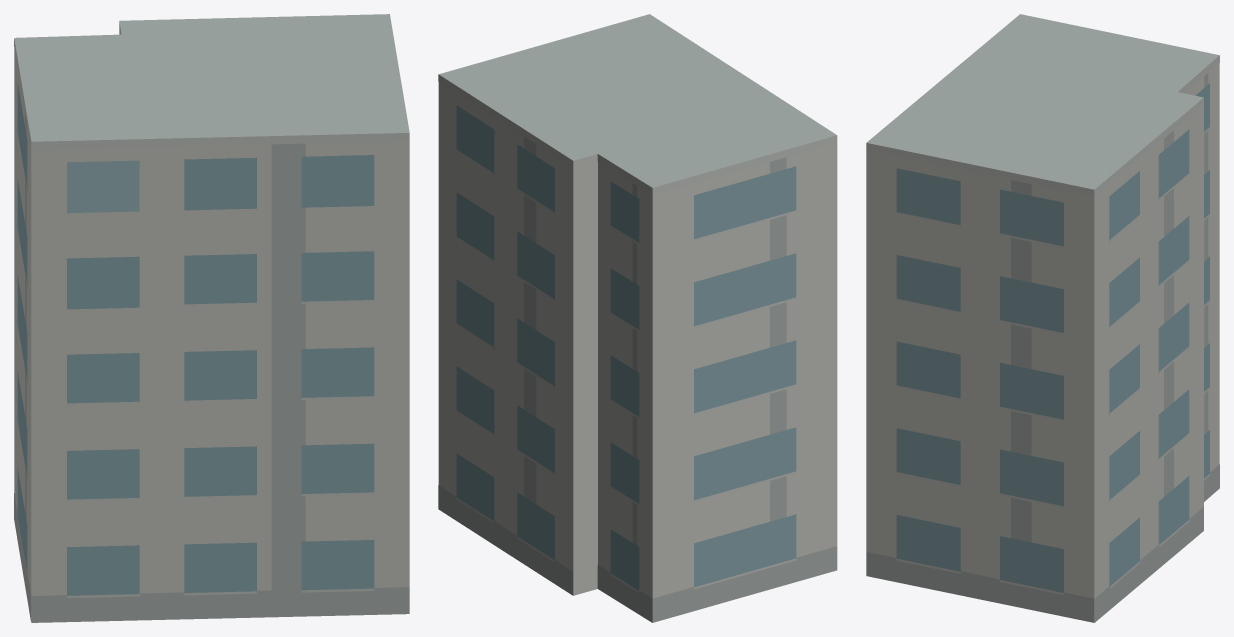
The model's file is survey-upis-32975425.glb.
3 views of the same model, side by side, from view 1: azimuth 30°, elevation 25°; view 2: azimuth 150°, elevation 25°; view 3: azimuth 270°, elevation 25° (orthographic). The views are drawn at different scales.
Visible parts, largest first — view 1: survey-upis-32975425.tmp; view 2: survey-upis-32975425.tmp; view 3: survey-upis-32975425.tmp.
Part boxes in pixels (x1=…): survey-upis-32975425.tmp: x1=14, y1=14, x2=409, y2=622; survey-upis-32975425.tmp: x1=438, y1=14, x2=837, y2=622; survey-upis-32975425.tmp: x1=866, y1=14, x2=1219, y2=622.
Bounding box in the file's own units: 12.27 × 14.1 × 10.43.
